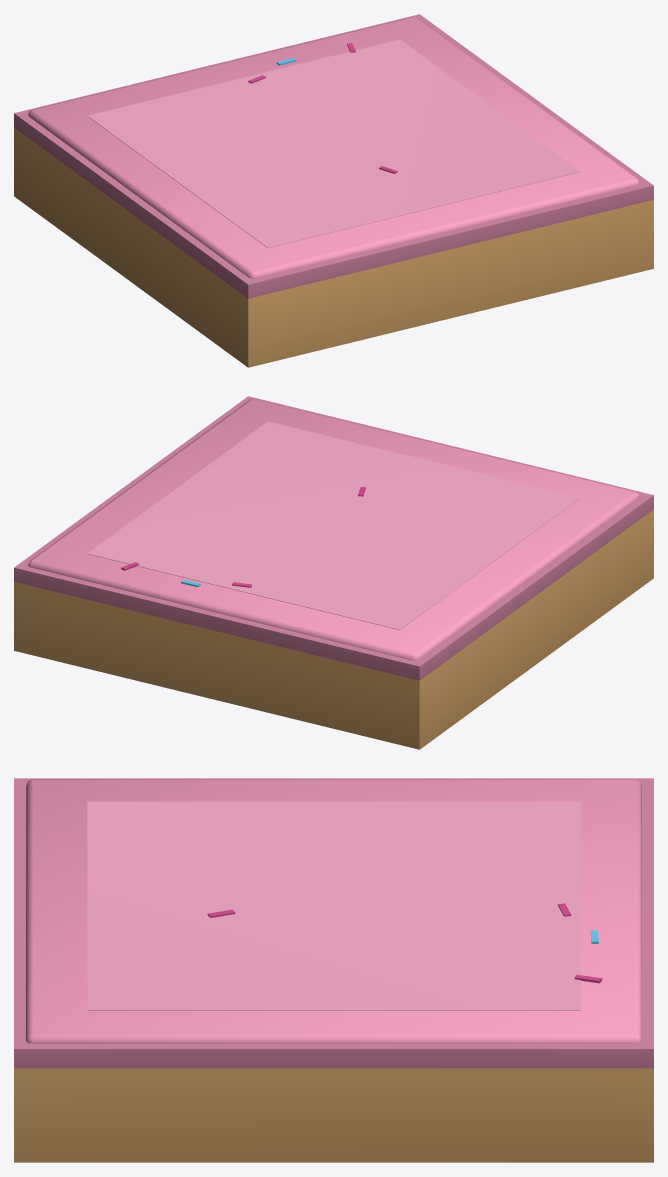
Rendered from candy_tile_pink.glb.
3 views of the same model, one above another, from view 1: azimuth 30°, elevation 25°; view 2: azimuth 150°, elevation 25°; view 3: azimuth 270°, elevation 25° (orthographic). The views are drawn at different scales.
Parts seen in each view (by area): view 1: C_Tile_pink__C_s_pink_5, C_Tile_pink__C_bisc_8, C_Tile_pink__C_i_pink_5, C_Tile_pink__C_g_pink_5; view 2: C_Tile_pink__C_s_pink_5, C_Tile_pink__C_bisc_8, C_Tile_pink__C_i_pink_5, C_Tile_pink__C_g_pink_5; view 3: C_Tile_pink__C_s_pink_5, C_Tile_pink__C_bisc_8, C_Tile_pink__C_i_pink_5, C_Tile_pink__C_g_pink_5.
Boxes of the visible parts, x1,y1,x2,y2 form: C_Tile_pink__C_s_pink_5: (87, 39, 580, 248); C_Tile_pink__C_bisc_8: (14, 127, 653, 367); C_Tile_pink__C_i_pink_5: (28, 17, 639, 278); C_Tile_pink__C_g_pink_5: (14, 14, 653, 298); C_Tile_pink__C_s_pink_5: (87, 421, 580, 630); C_Tile_pink__C_bisc_8: (14, 509, 653, 749); C_Tile_pink__C_i_pink_5: (28, 399, 639, 660); C_Tile_pink__C_g_pink_5: (14, 396, 653, 680); C_Tile_pink__C_s_pink_5: (87, 801, 580, 1010); C_Tile_pink__C_bisc_8: (14, 1068, 653, 1162); C_Tile_pink__C_i_pink_5: (26, 779, 641, 1043); C_Tile_pink__C_g_pink_5: (14, 778, 653, 1068).
Bounding box in the file's own units: 4.8 × 1.02 × 4.8.
